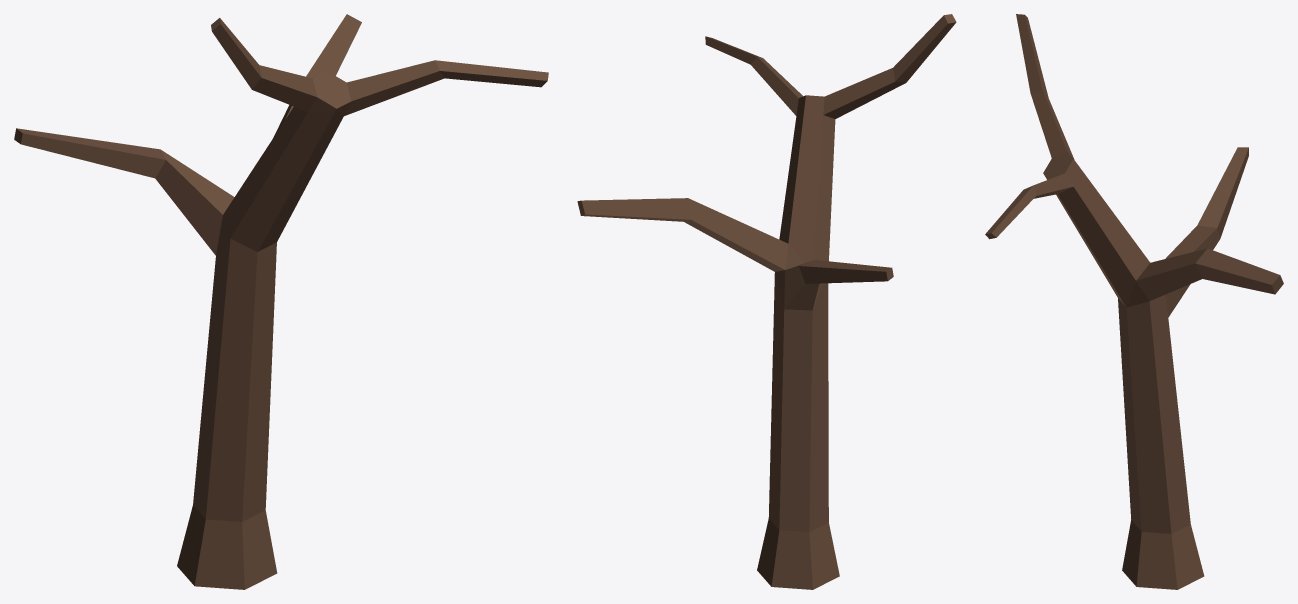
Rendered from baretree2.fbx.
The picture shows the model from 3 angles, left to right: view 1: azimuth 30°, elevation 25°; view 2: azimuth 150°, elevation 25°; view 3: azimuth 270°, elevation 25°; orthographic projection. The views are drawn at different scales.
Parts seen in each view (by area): view 1: baretree2; view 2: baretree2; view 3: baretree2.
Part boxes in pixels (<box>): baretree2: <box>14,14,548,589</box>; baretree2: <box>577,14,956,589</box>; baretree2: <box>985,14,1283,589</box>.
Size of the model in its own units: 164 by 263 by 136.
